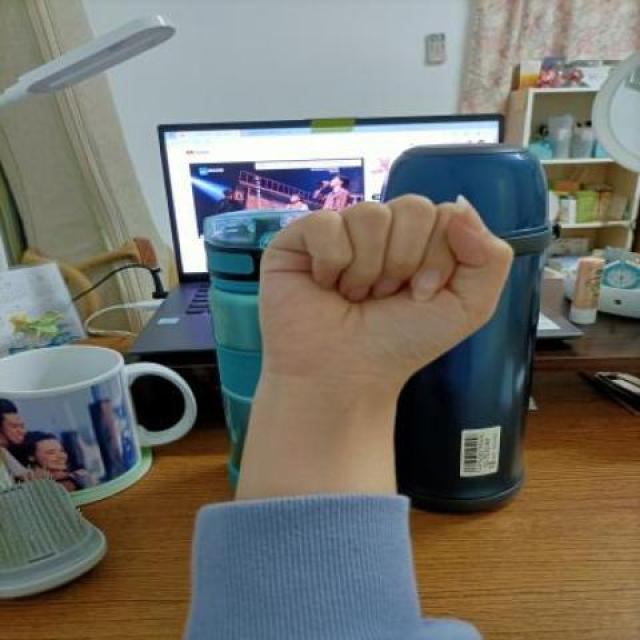Closed Hand: (240, 192, 517, 408)
